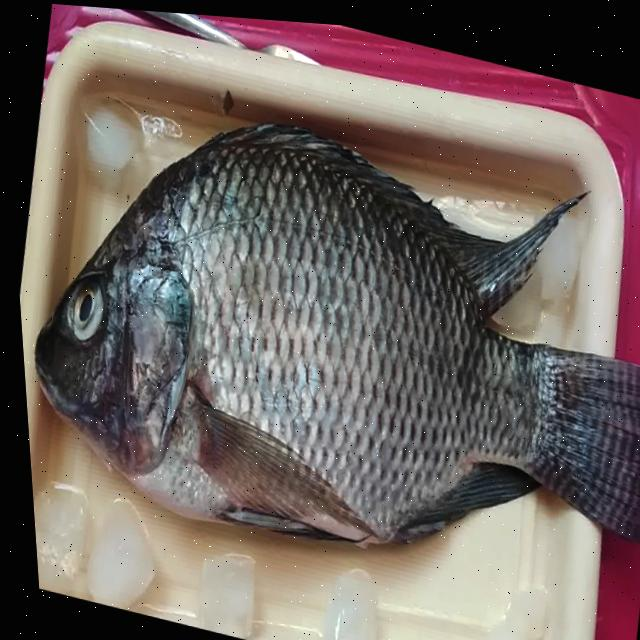Fresh: (72, 84, 531, 588), (38, 247, 119, 373)
